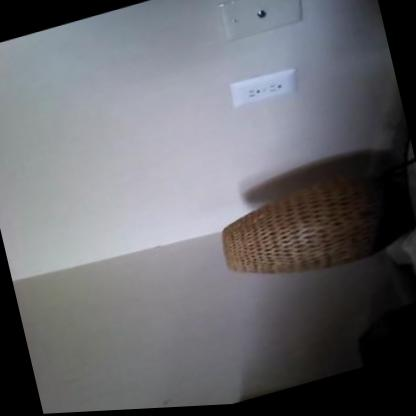OUTLET: (226, 64, 301, 109)
